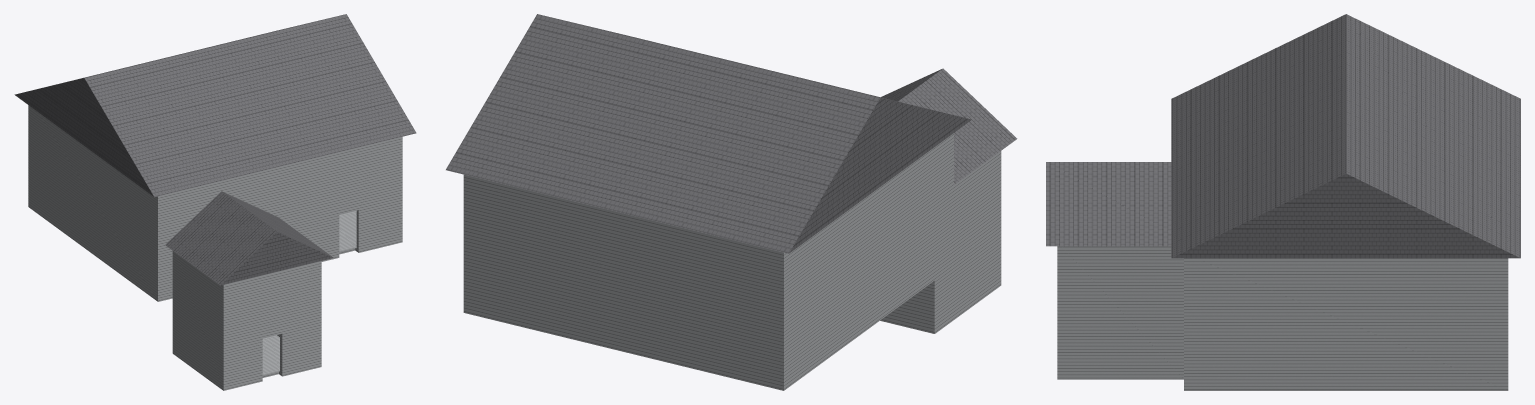
Rendered from victorian_queen_anne.glb.
3 renders of one model, left to right at view 1: azimuth 30°, elevation 25°; view 2: azimuth 150°, elevation 25°; view 3: azimuth 270°, elevation 25°, orthographic. The views are drawn at different scales.
Parts seen in each view (by area): view 1: victorian_queen_anne-col; view 2: victorian_queen_anne-col; view 3: victorian_queen_anne-col.
Part boxes in pixels (box(x1,y1,x2,y2)): victorian_queen_anne-col: box(14, 14, 416, 390); victorian_queen_anne-col: box(446, 14, 1017, 390); victorian_queen_anne-col: box(1046, 14, 1520, 390).
Size of the model in its own units: 13.4 by 11.42 by 16.85.
Materials: 3 (3 with a texture image).
